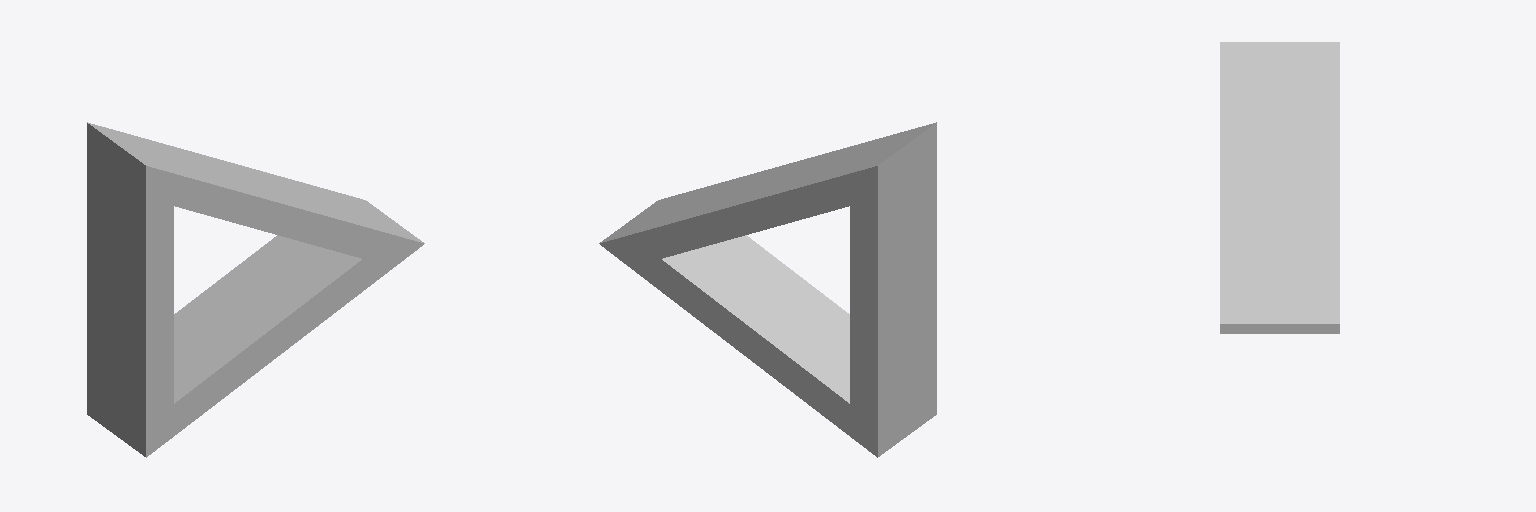
File: Arrow_25.obj
3 views of the same model, side by side, from view 1: azimuth 30°, elevation 25°; view 2: azimuth 150°, elevation 25°; view 3: azimuth 270°, elevation 25° (orthographic).
Parts seen in each view (by area): view 1: Arrow_25; view 2: Arrow_25; view 3: Arrow_25.
Part boxes in pixels (x1,y1,x2,y2): Arrow_25: (87,122,424,457); Arrow_25: (599,122,936,457); Arrow_25: (1220,42,1339,333).
Size of the model in its own units: 2 by 2 by 0.7399.